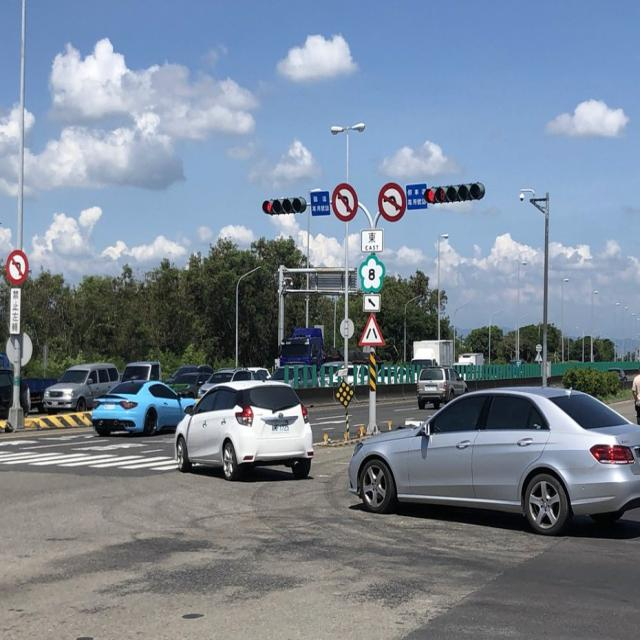red light: (425, 181, 486, 204), (262, 194, 308, 217)
